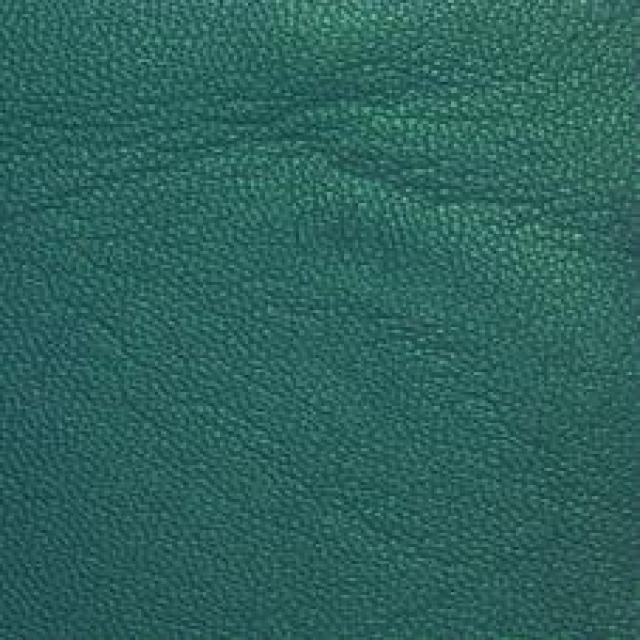Growth Marks: (28, 79, 350, 224), (380, 130, 600, 265)
